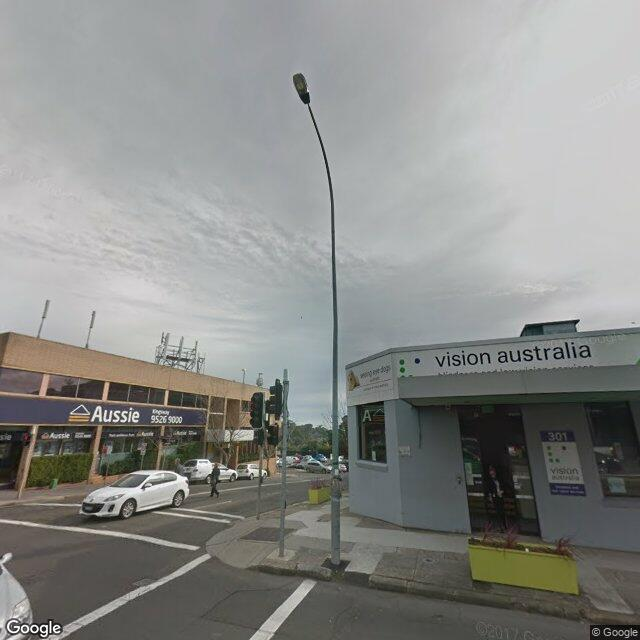steel-pole: (330, 189, 342, 564), (278, 368, 289, 557), (257, 445, 262, 519)
streetlight: (292, 72, 334, 191)
traffic-light: (265, 378, 283, 420), (250, 391, 264, 429), (267, 422, 279, 446), (252, 428, 264, 446)
